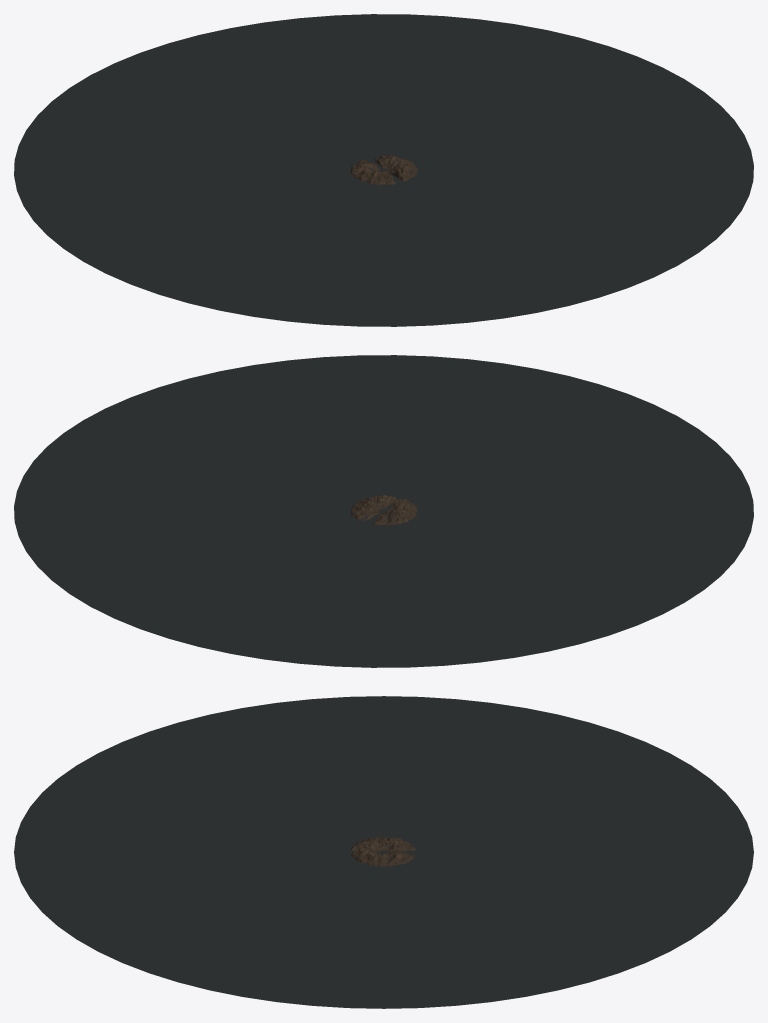
Rendered from backdrop_near_rect_wild_dead.glb.
The picture shows the model from 3 angles, top to bottom: view 1: azimuth 30°, elevation 25°; view 2: azimuth 150°, elevation 25°; view 3: azimuth 270°, elevation 25°; orthographic projection.
Visible parts, largest first — view 1: water_N, water_S, water_W, water_E; view 2: water_N, water_S, water_W, water_E; view 3: water_E, water_N, water_W, water_S, near_land_E.
Boxes of the visible parts, <box> form: water_N: <box>26,14,479,170</box>; water_S: <box>288,170,741,326</box>; water_W: <box>14,130,383,321</box>; water_E: <box>384,19,753,210</box>; water_N: <box>26,511,479,667</box>; water_S: <box>288,355,741,511</box>; water_W: <box>384,471,753,662</box>; water_E: <box>14,360,383,551</box>; water_E: <box>123,852,644,1008</box>; water_N: <box>384,742,753,962</box>; water_W: <box>123,696,644,852</box>; water_S: <box>14,742,383,962</box>; near_land_E: <box>360,851,407,866</box>.
Size of the model in its own units: 6000 by 168 by 6000.
4 materials, 3 textured.
